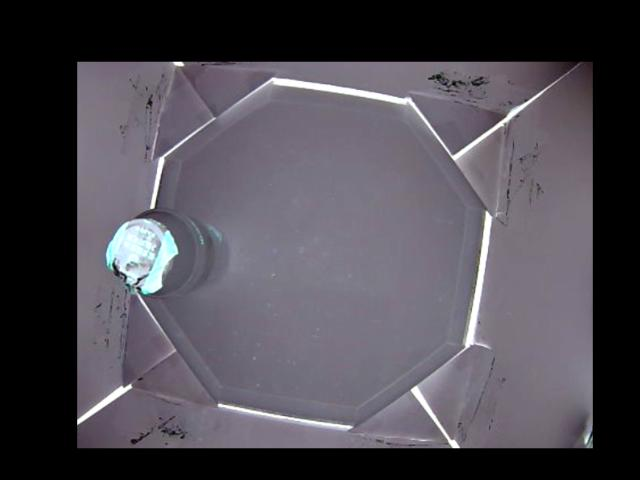Bottle: (104, 208, 231, 296)
